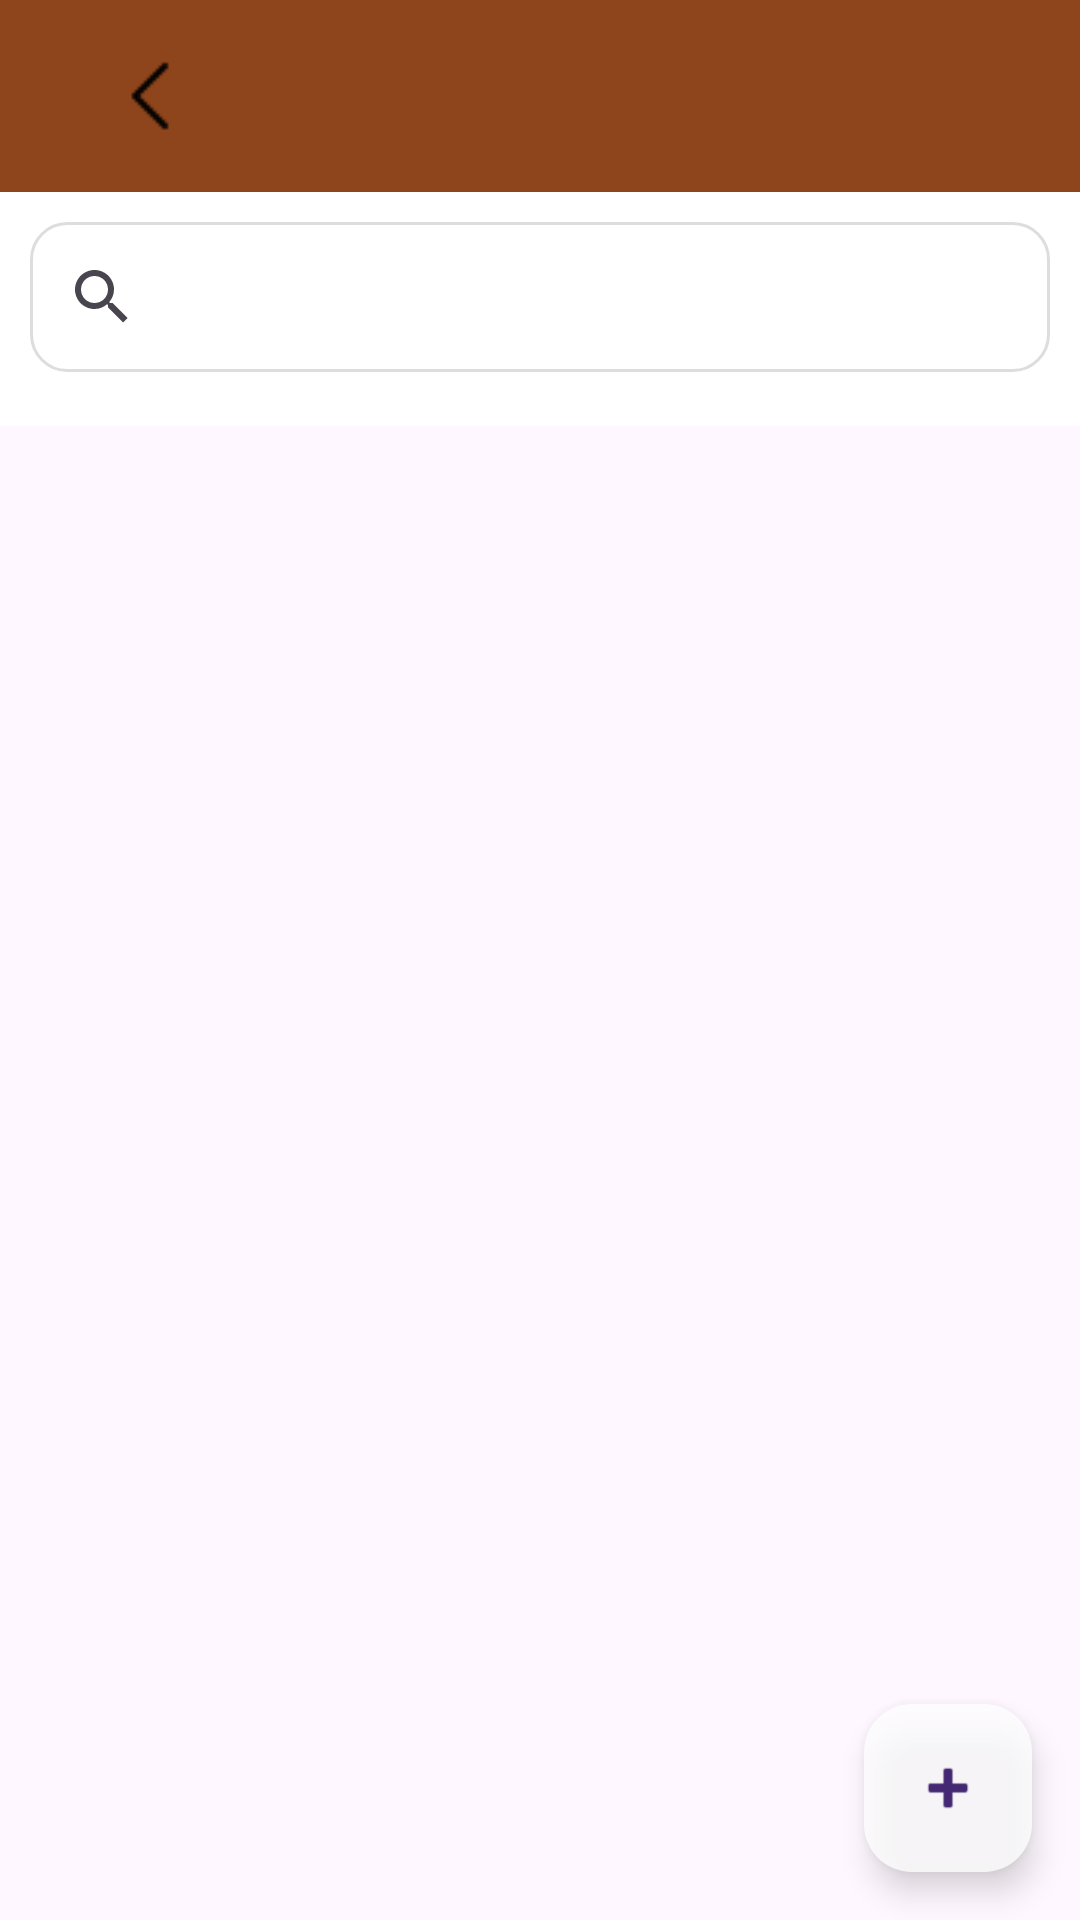

Screen size 1080 x 1920. Icon name, then its center in pixels as [x,y]:
Thêm sản phẩm: [948,1788]
